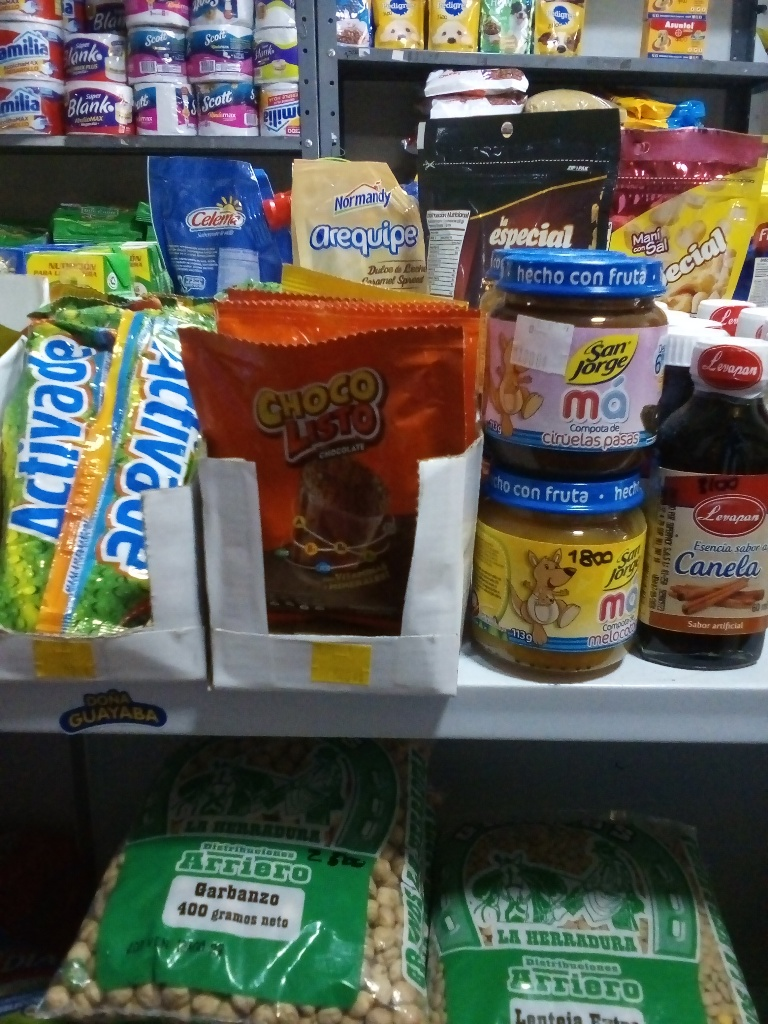COL0170103SOB02000: (180, 315, 467, 639)
